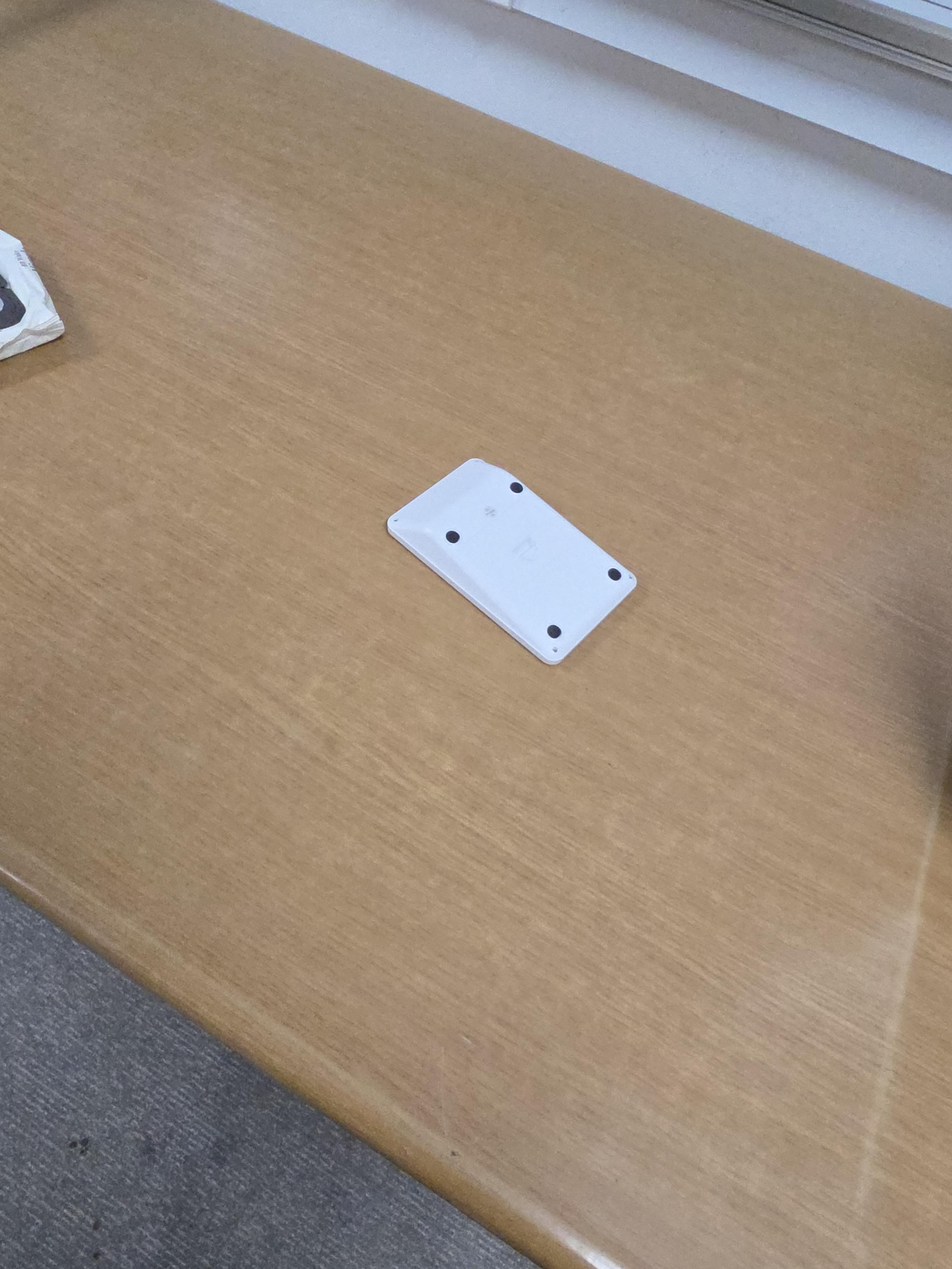calculator: (385, 458, 638, 667)
tissue: (0, 229, 65, 360)
